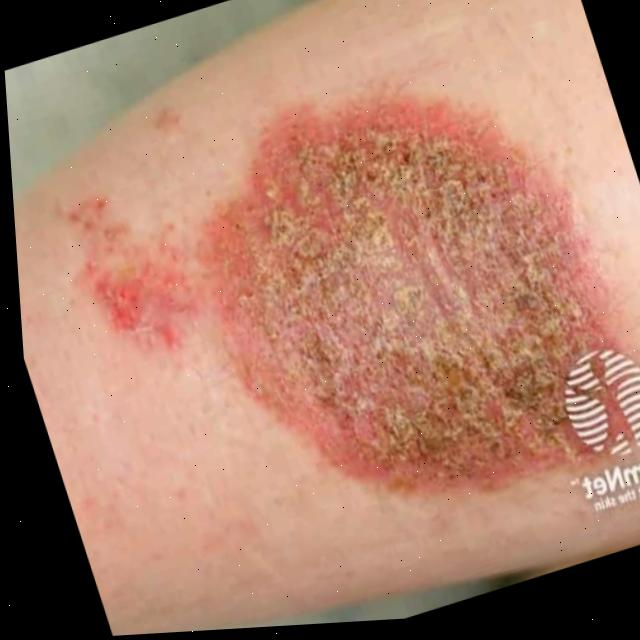Eczema: (45, 19, 640, 588)
